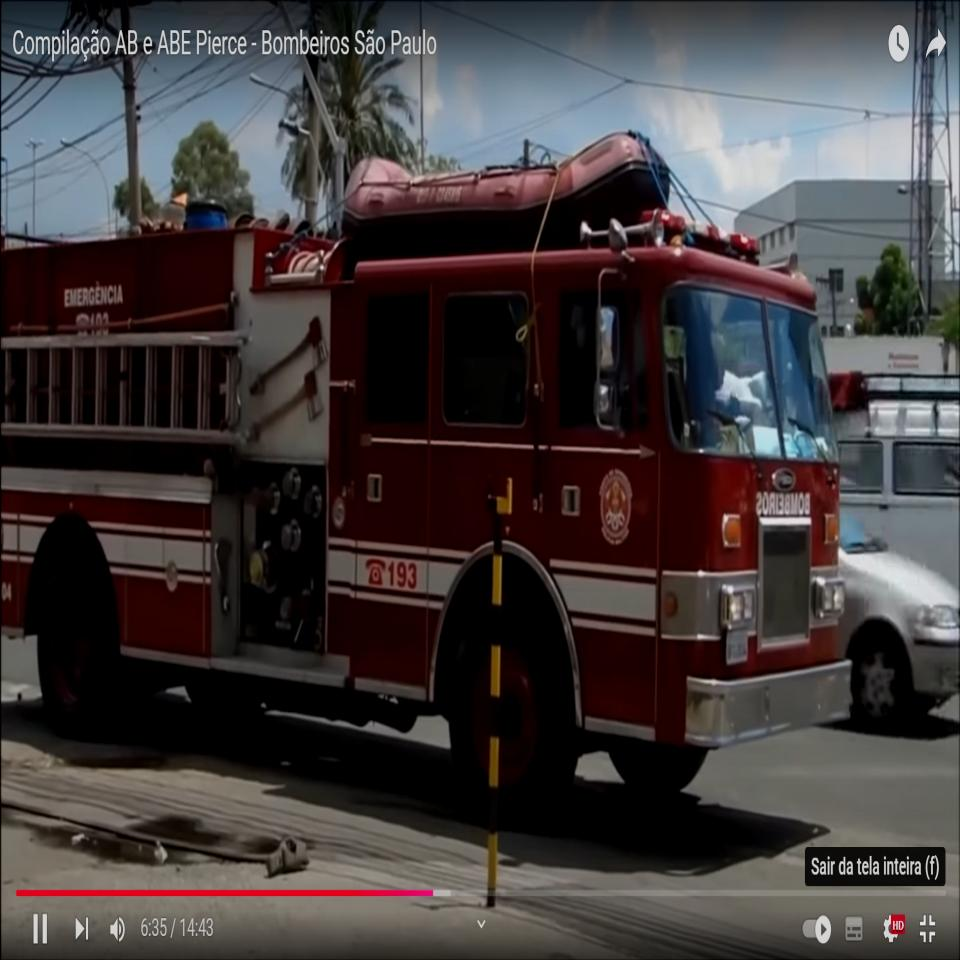bombeiro: (0, 124, 855, 820)
